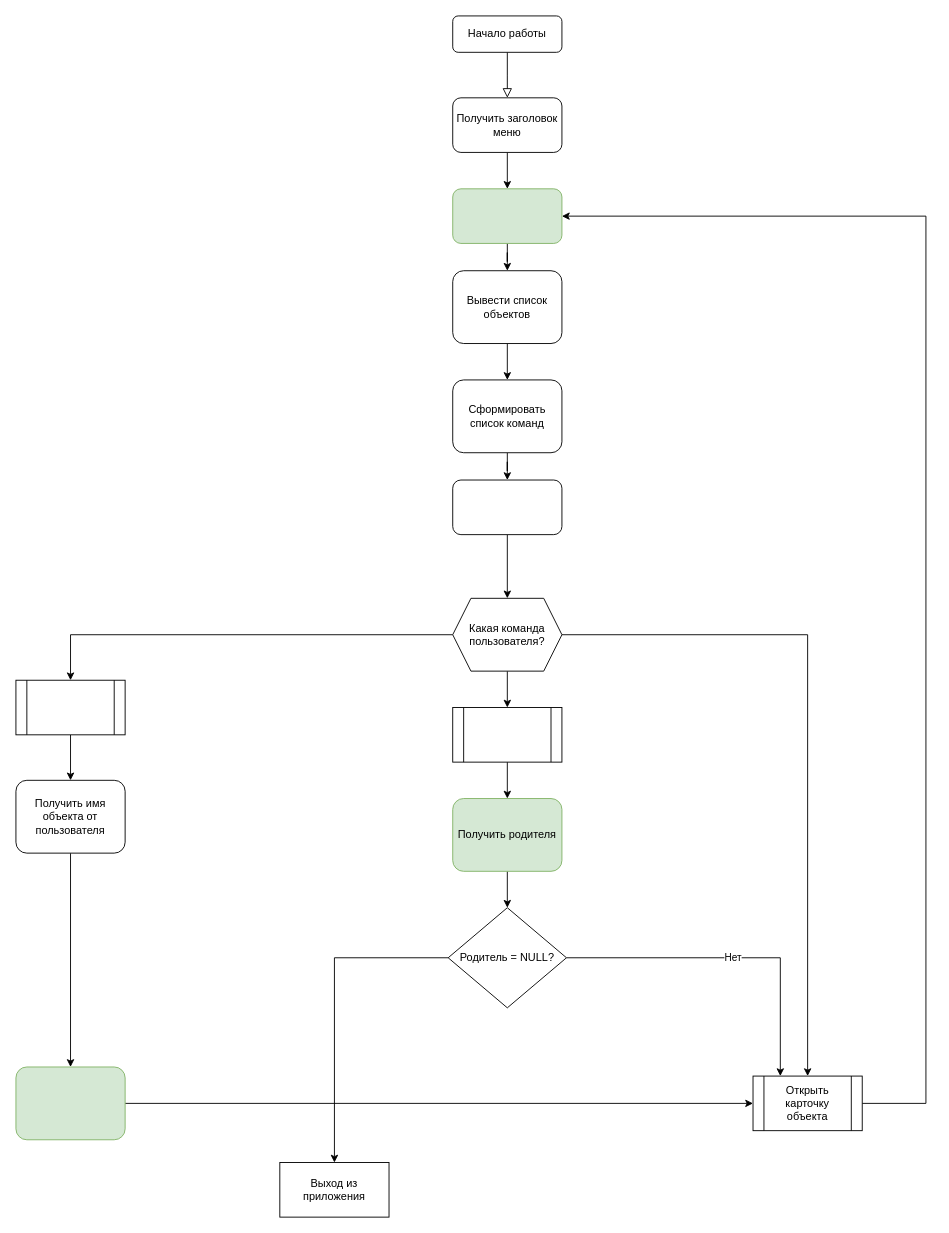
This 949x1233 diagram has some shape labels left out. The centre of each missing label's shape, as x and y in pixels:
"Выход" belongs at point (507, 734).
"Ожидать команду пользователя" belongs at point (507, 507).
"Получить список объектов по родителю" belongs at point (507, 215).
"Создать новый объект, присвоить родителя" belongs at point (70, 1103).
"Создать объект" belongs at point (70, 707).
